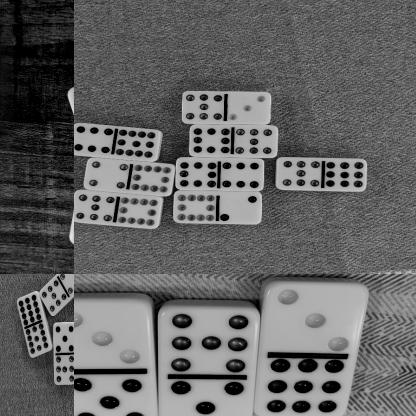pip-10: (116, 194, 163, 230), (172, 190, 218, 225), (129, 162, 175, 197)
pip-11: (115, 127, 161, 162), (24, 323, 52, 360)
pip-12: (16, 293, 40, 327)
pip-2: (217, 191, 261, 225)
pip-3: (260, 282, 367, 355), (74, 303, 152, 371), (225, 92, 271, 124)
pip-4: (82, 159, 128, 191), (59, 274, 74, 296)
pip-5: (74, 371, 156, 416), (156, 378, 253, 416), (51, 322, 74, 355)
pip-6: (219, 157, 264, 192), (74, 123, 114, 156)
pip-7: (159, 310, 258, 378), (274, 158, 322, 191), (232, 126, 278, 159), (181, 91, 225, 124), (74, 191, 115, 225), (39, 280, 66, 317)
pip-8: (175, 157, 219, 191), (188, 124, 232, 157)
pip-9: (254, 357, 354, 416), (323, 158, 367, 192)
